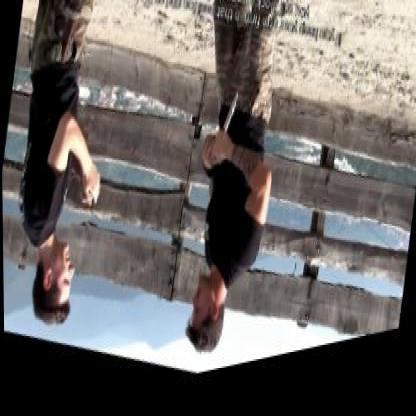knife: (210, 88, 244, 175)
